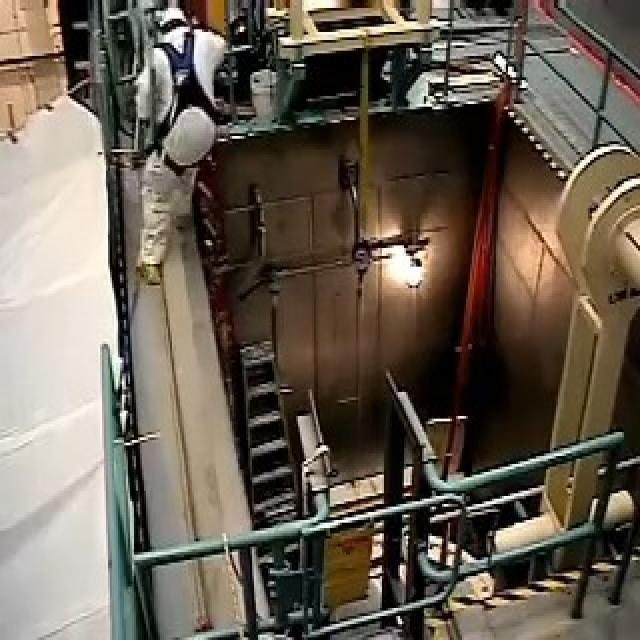Arnes_seguridad: (129, 31, 223, 180)
